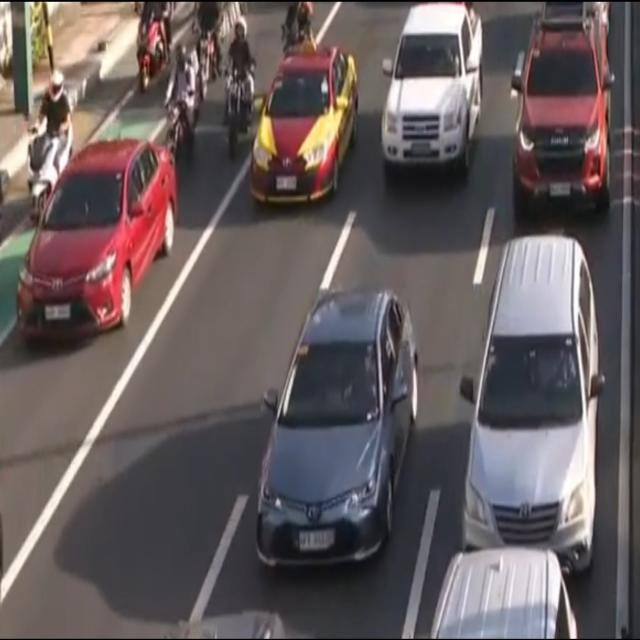Motorcycle: (28, 72, 76, 214), (218, 12, 256, 164), (161, 43, 192, 175), (133, 0, 171, 93), (198, 0, 222, 98), (279, 1, 313, 61)
SUV: (459, 237, 601, 582), (376, 3, 486, 181), (514, 19, 612, 215), (427, 549, 584, 640)
Sedan: (252, 292, 418, 567), (13, 144, 178, 344), (254, 53, 351, 212)
